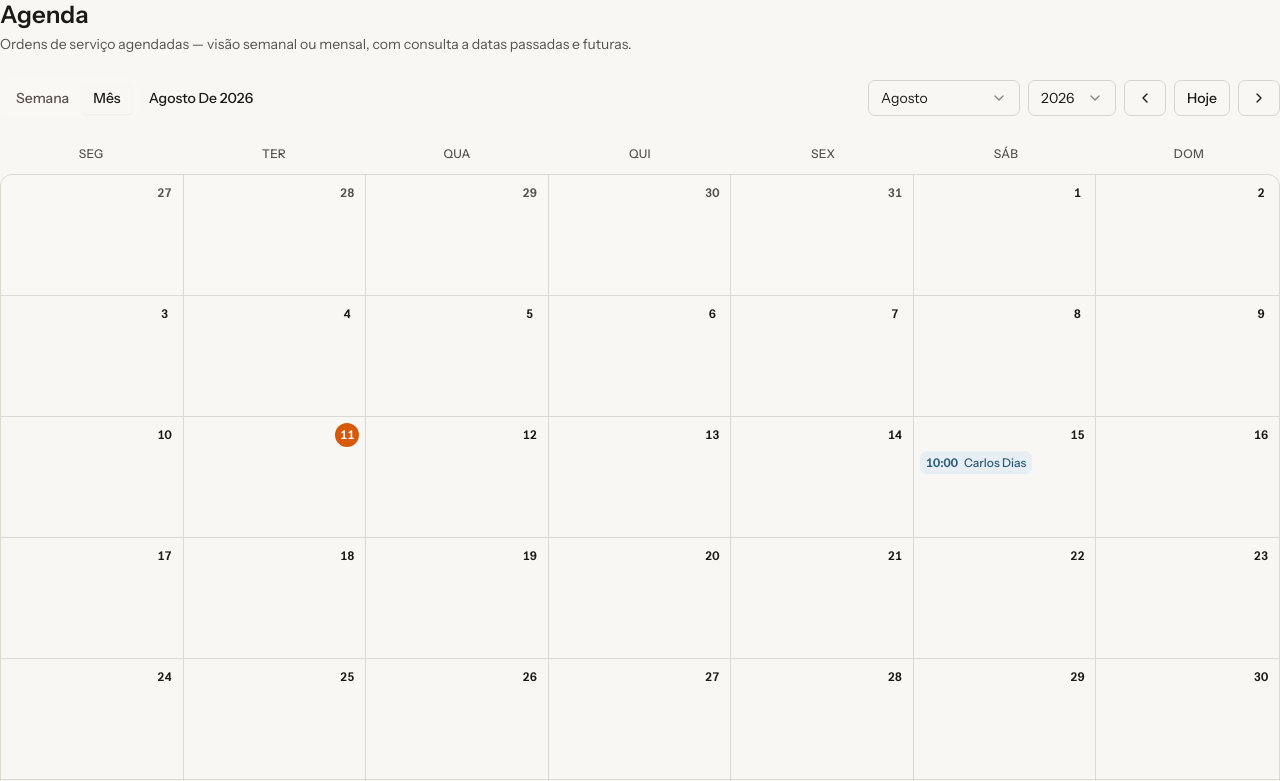
Scenario: AgendaPage — visão mensal › abre o painel lateral com as OS do dia ao clicar na célula
Check: the text "Carlos Dias" is shown, box [964,455,1026,470]
Click the button "15 10:00 Carlos Dias": (1005, 477) [914,417,1096,537]
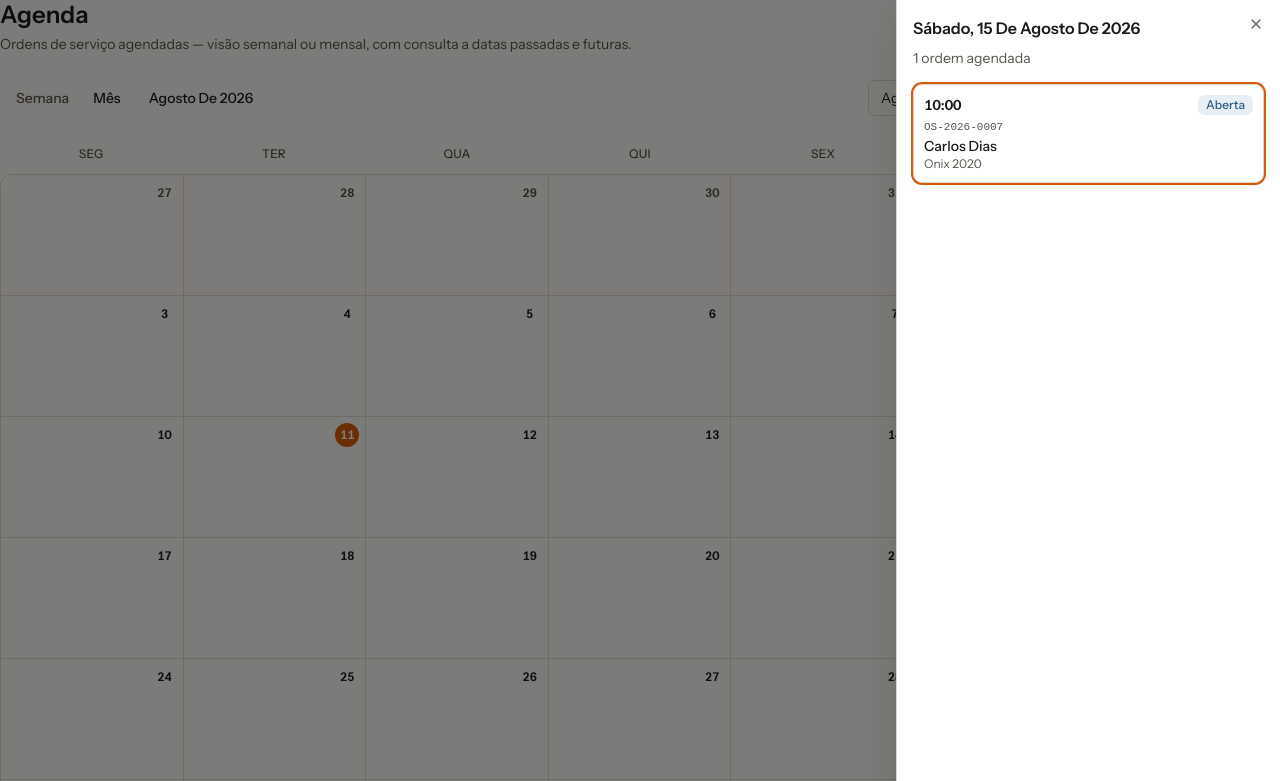
Check: the text "Carlos Dias" is shown, box [924,136,997,154]
Check: the text "Onix 2020" is shown, box [924,156,982,170]
